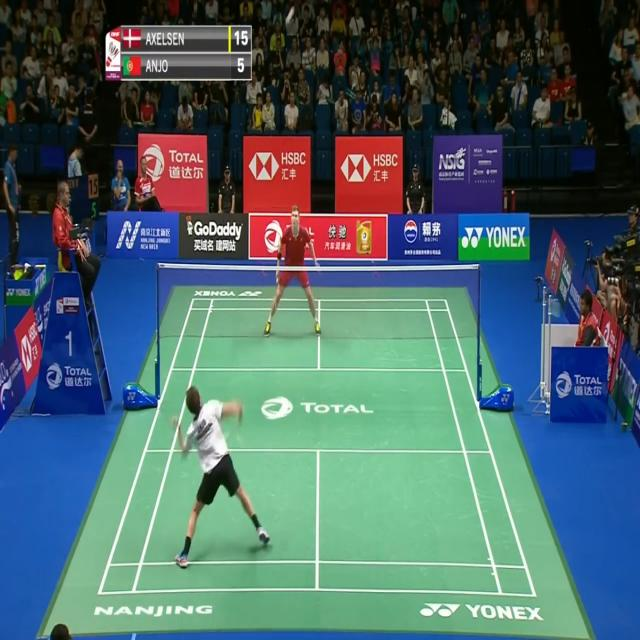Player1: (161, 382, 276, 574)
Player2: (260, 206, 323, 339)
